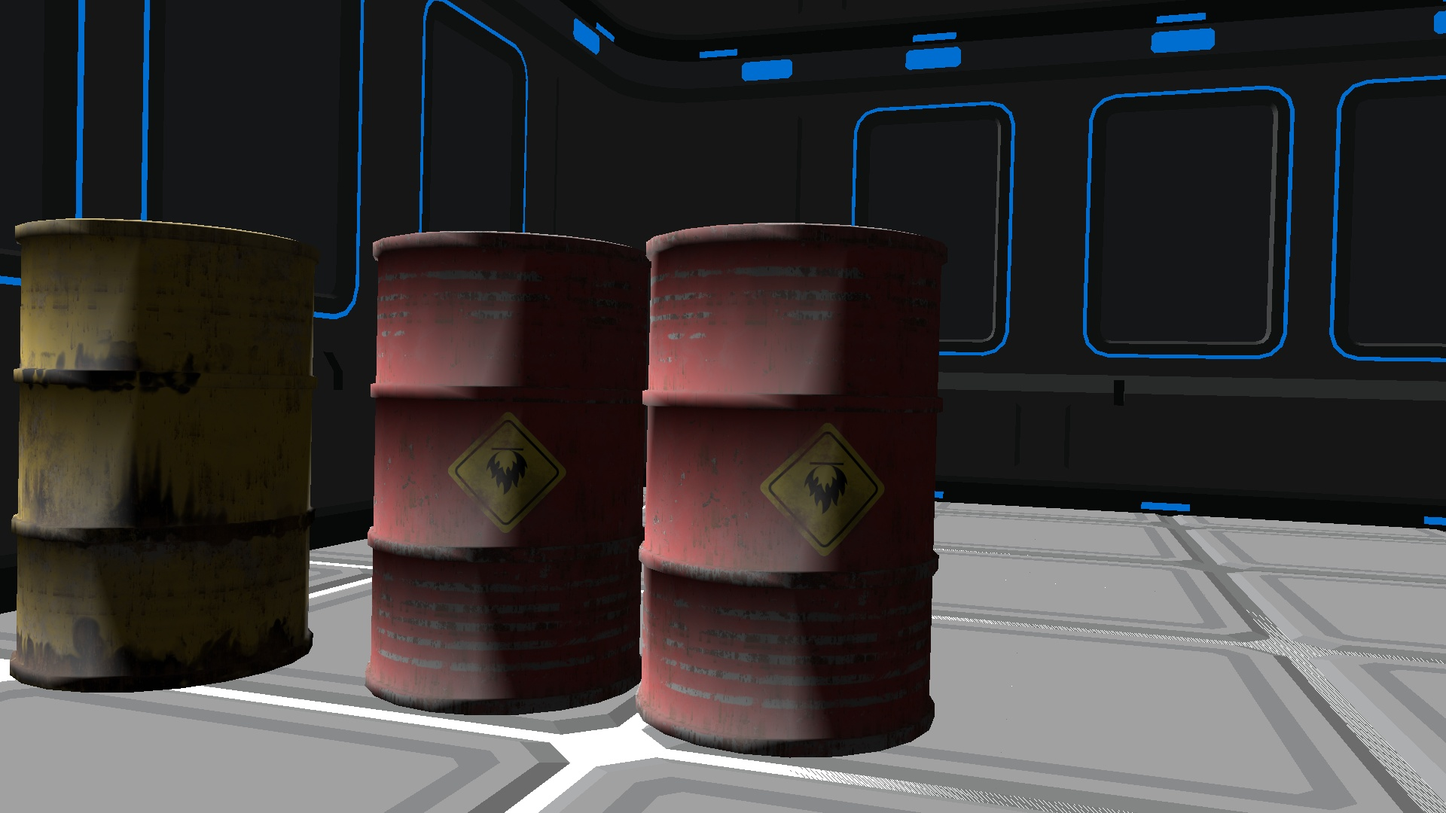toxic barrel: (633, 223, 938, 758), (8, 218, 312, 693), (362, 232, 643, 716)
